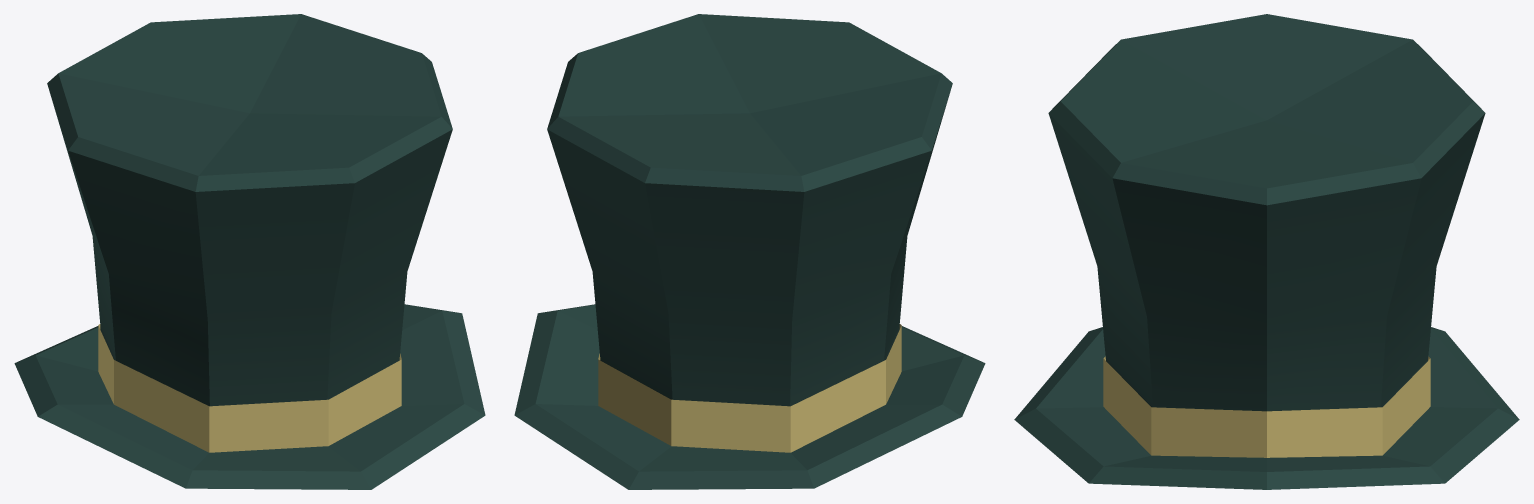
Rendered from mod_hat(1).fbx.
The picture shows the model from 3 angles, left to right: view 1: azimuth 30°, elevation 25°; view 2: azimuth 150°, elevation 25°; view 3: azimuth 270°, elevation 25°; orthographic projection. The views are drawn at different scales.
Visible parts, largest first — view 1: Hat; view 2: Hat; view 3: Hat.
Part boxes in pixels (bbox=[...]): Hat: bbox=[14, 14, 485, 489]; Hat: bbox=[514, 14, 985, 489]; Hat: bbox=[1014, 14, 1519, 489].
Bounding box in the file's own units: 144 × 99.1 × 142.
